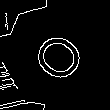O_SE: (24, 24, 90, 88)
